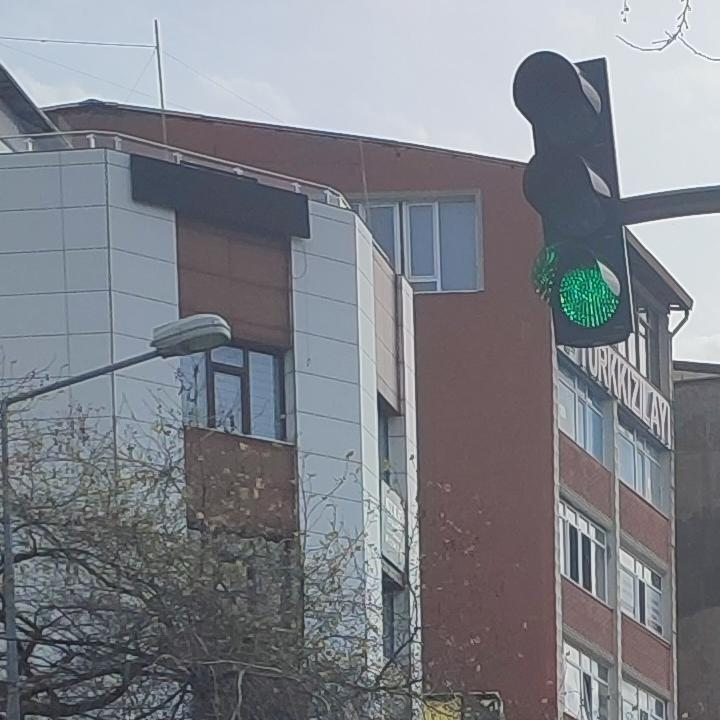green: (509, 49, 631, 346)
